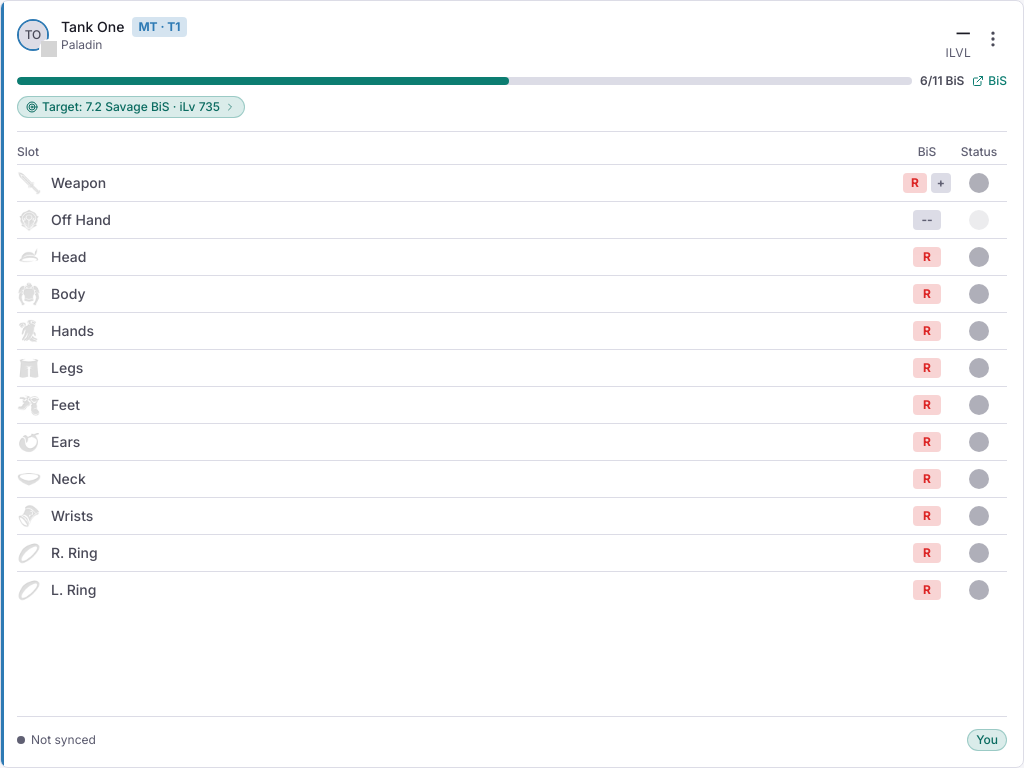
it: RosterCard — C5 metrics · badges · identity › active BiS target chip (D-01 remainder, expanded only) › opens the BiS Targets manager
Click the button "Target: 7.2 Savage BiS · iLv 735" at (131, 107), box [17,96,245,118]
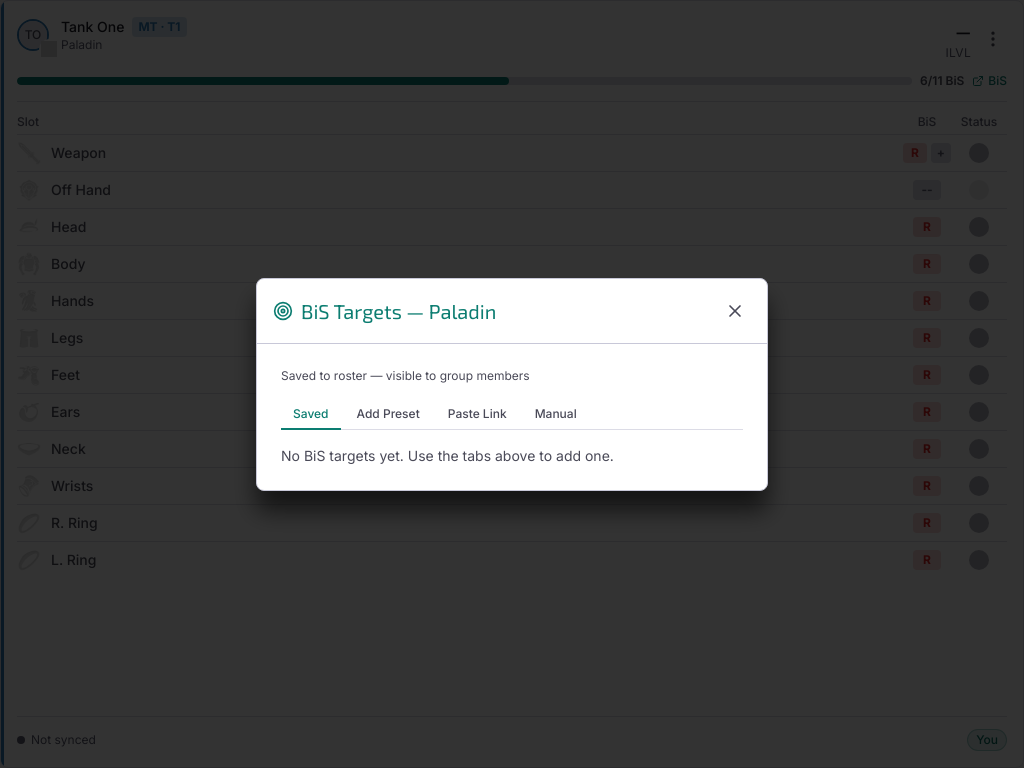
Result: the text "BiS Targets — Paladin" is shown at [273,296,496,324]
